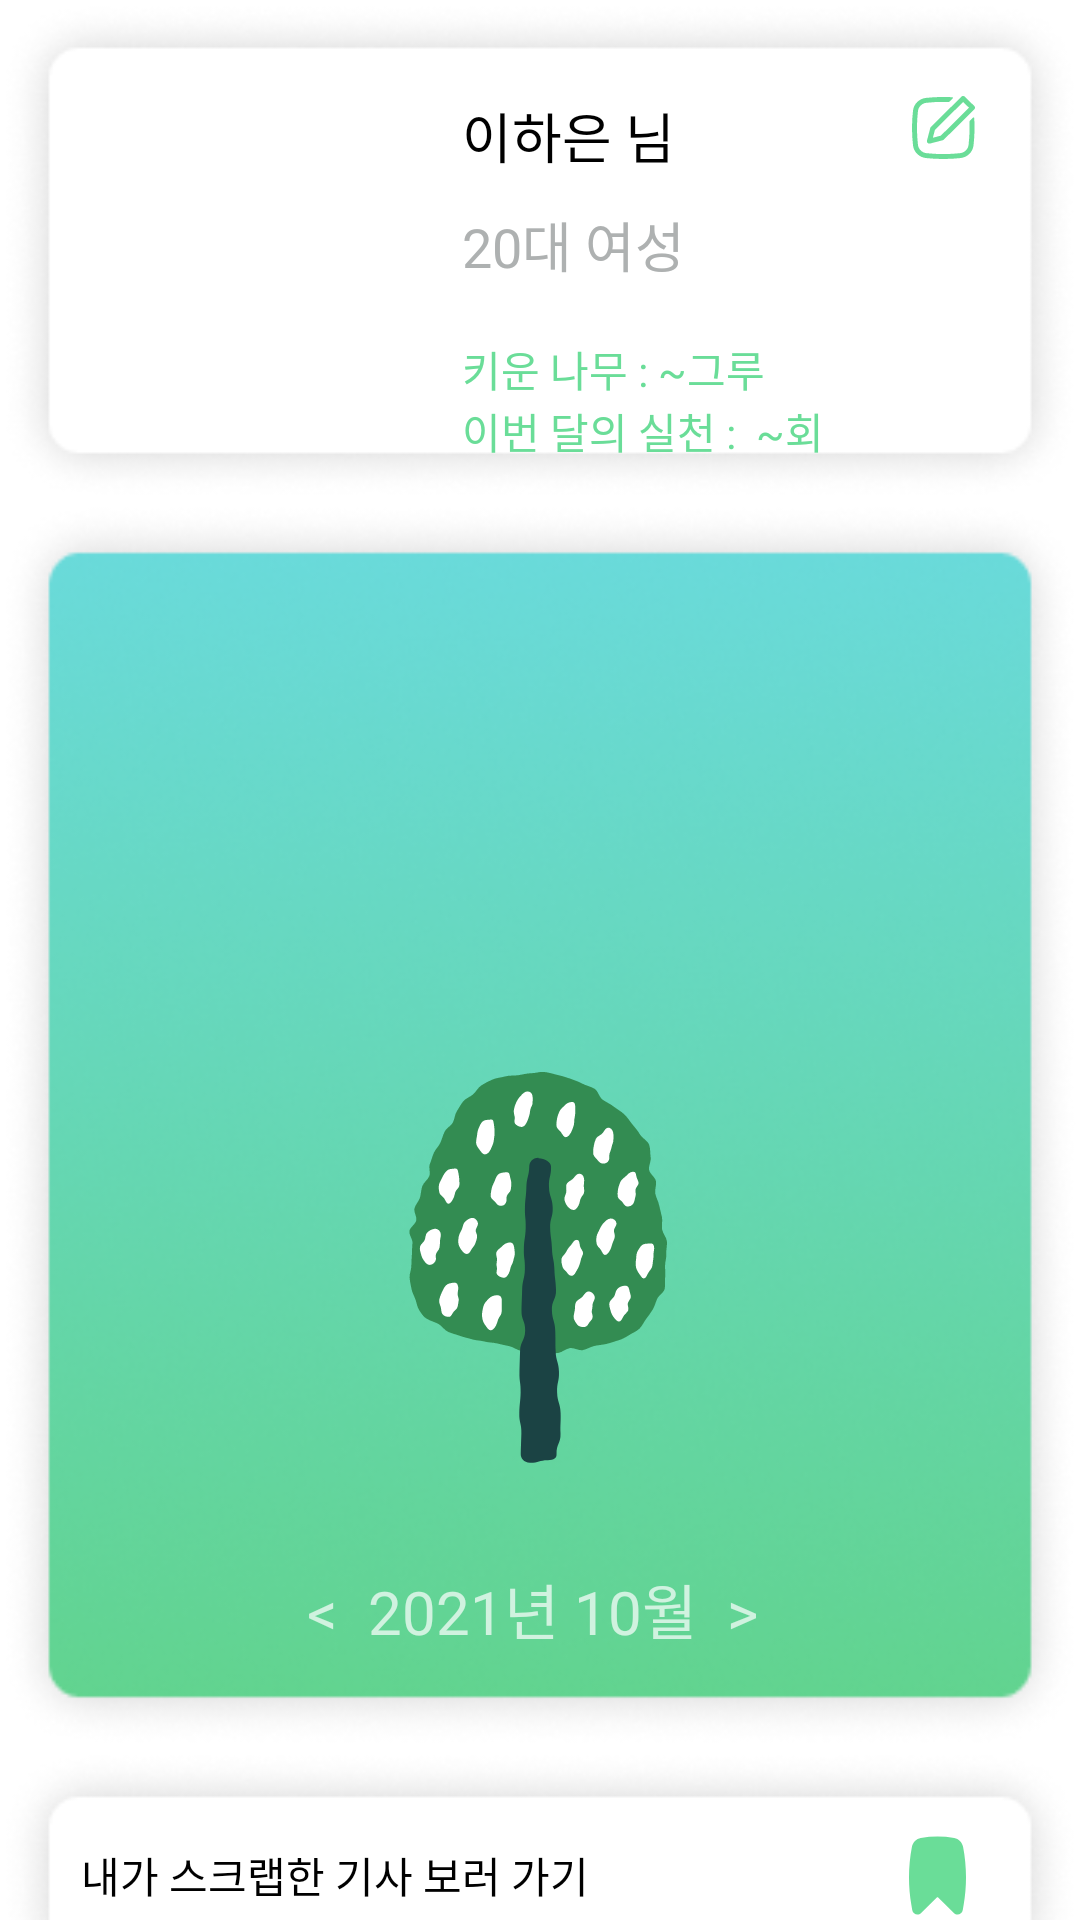

Named icons in this screenshot (1080x1920) and their bounding boxes, detection(x1, y1, x2, y2):
bookmark full: detection(909, 1836, 966, 1915)
mypage write: detection(912, 96, 975, 159)
